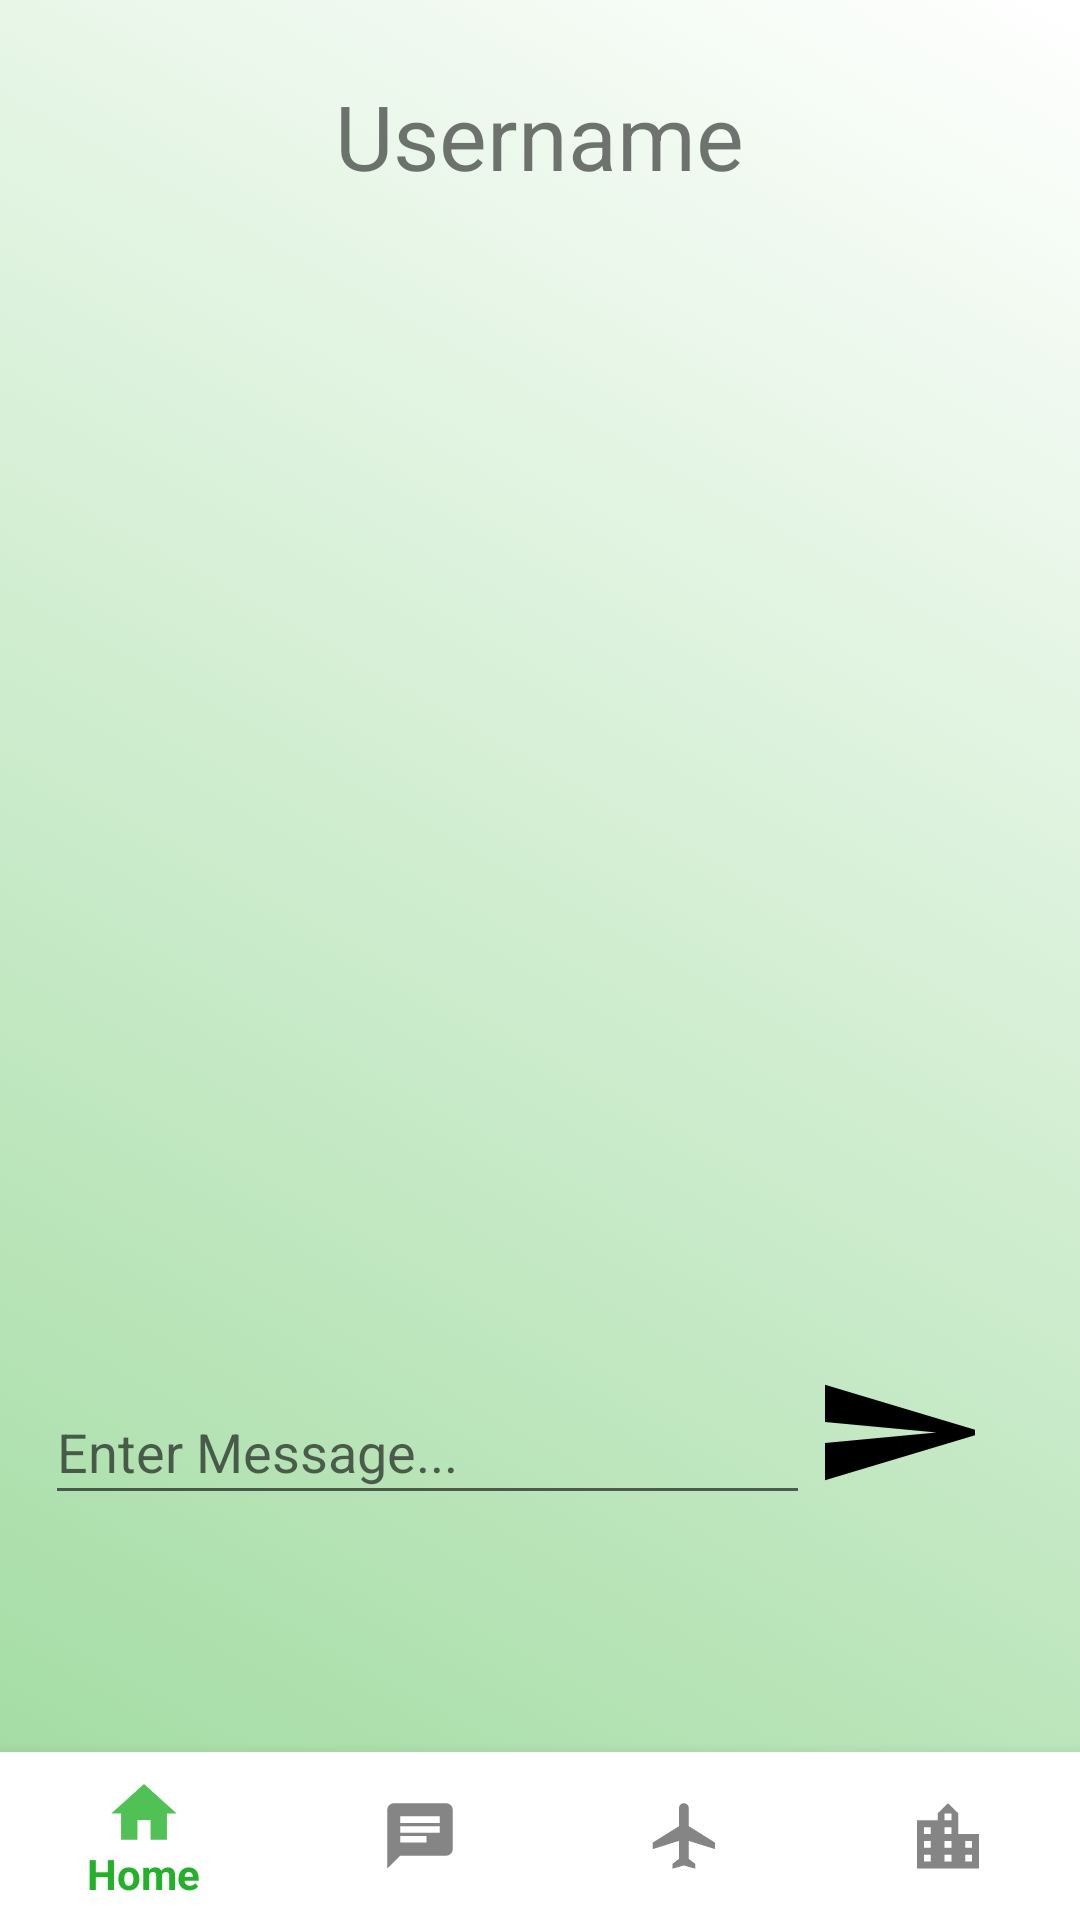

Locate icon controls on the screen. Image size 1080px x 1920px, boxes as (x1, y1, x2, y2).
send message: (825, 1385, 975, 1481)
